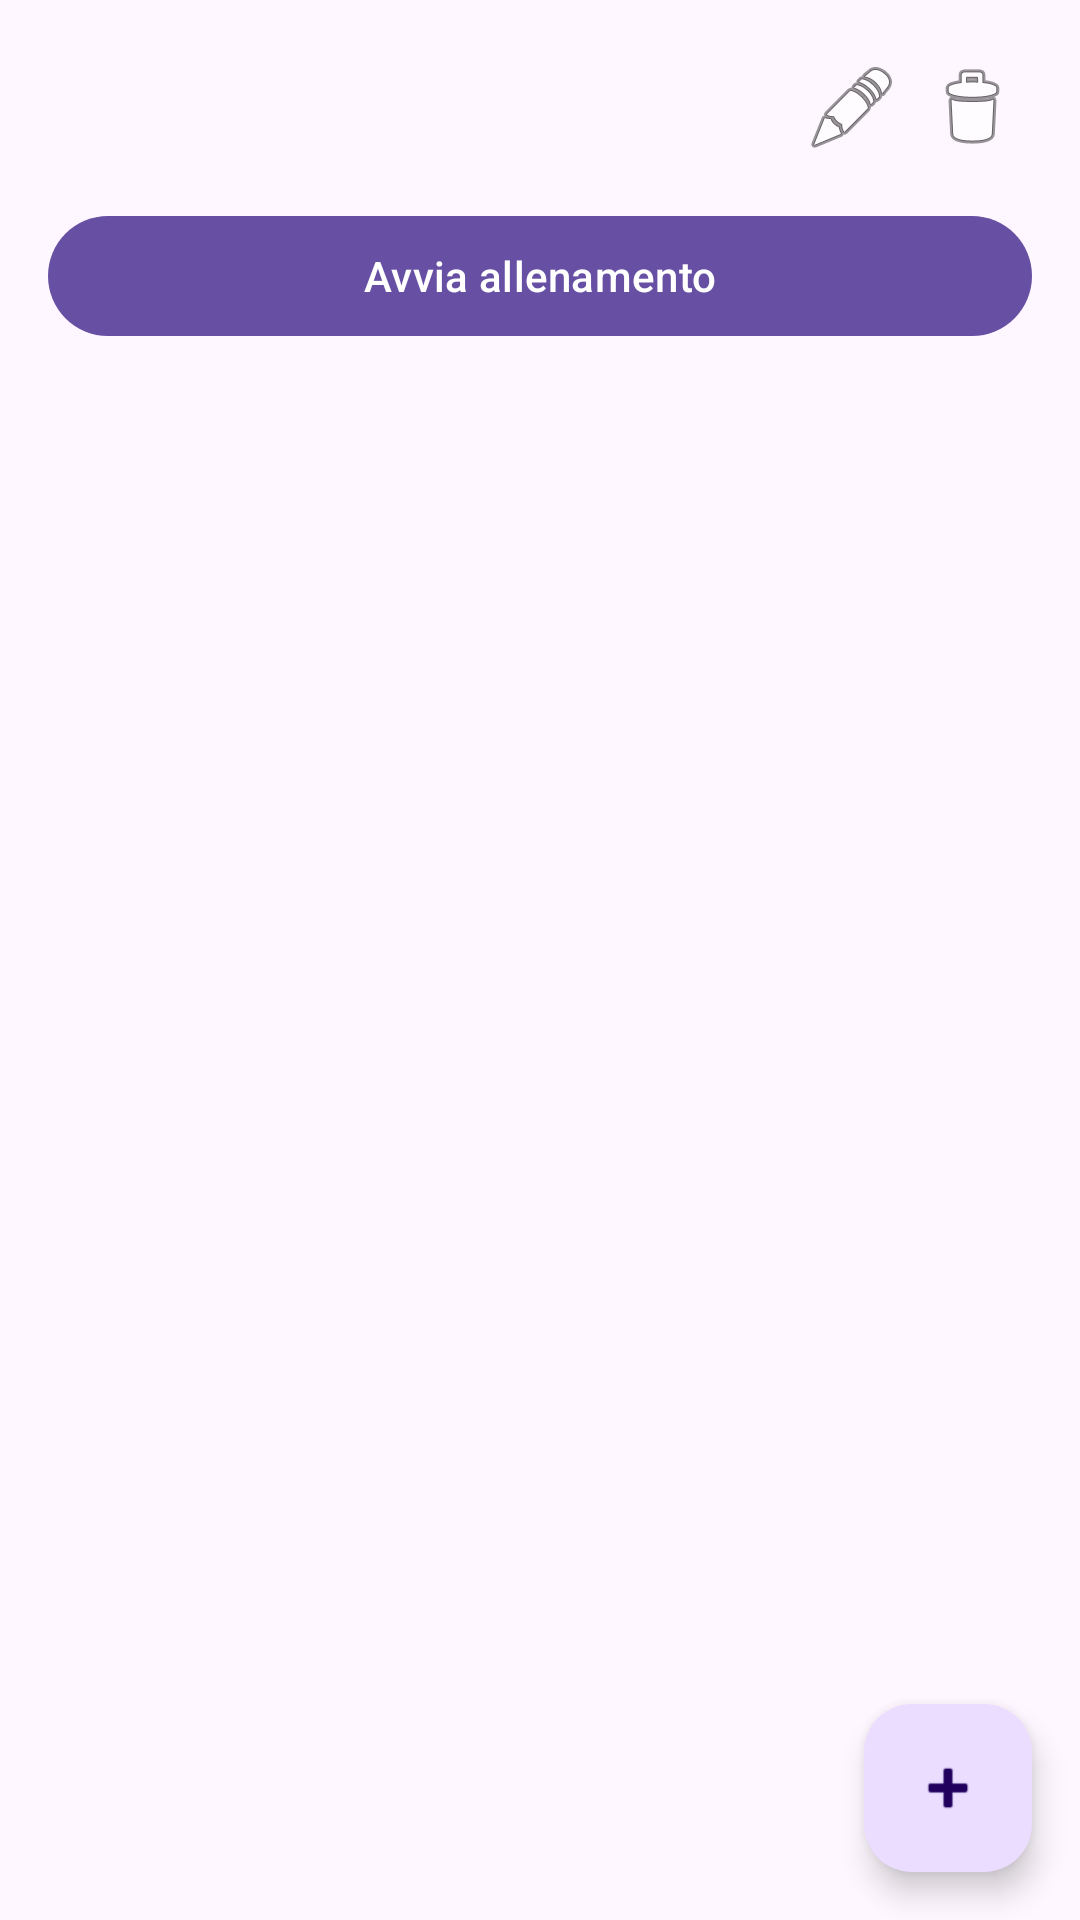

Named icons in this screenshot (1080*1920) and their bounding boxes, (x1, y1, x2, y2):
Aggiungi esercizio: (864, 1704, 1032, 1872)
Elimina scheda: (945, 69, 1000, 144)
Rinomina scheda: (811, 67, 892, 148)
